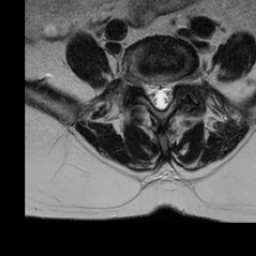CCS_normal: (156, 73, 164, 117)
LFS_stenosis: (173, 68, 184, 92)
LLS_normal: (164, 73, 173, 112)
RFS_normal: (136, 66, 146, 96)
RLS_normal: (146, 70, 156, 111)
